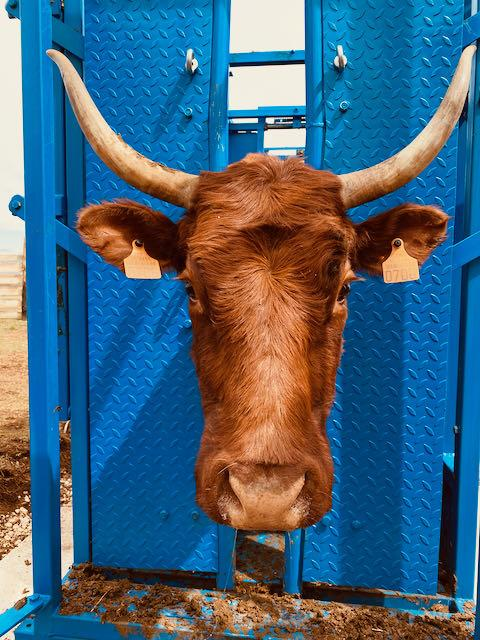muzzles: (204, 449, 328, 535)
